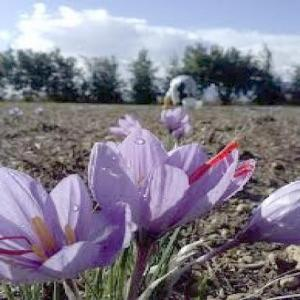Saffron: (87, 130, 255, 246), (0, 168, 133, 288), (242, 179, 300, 261)
